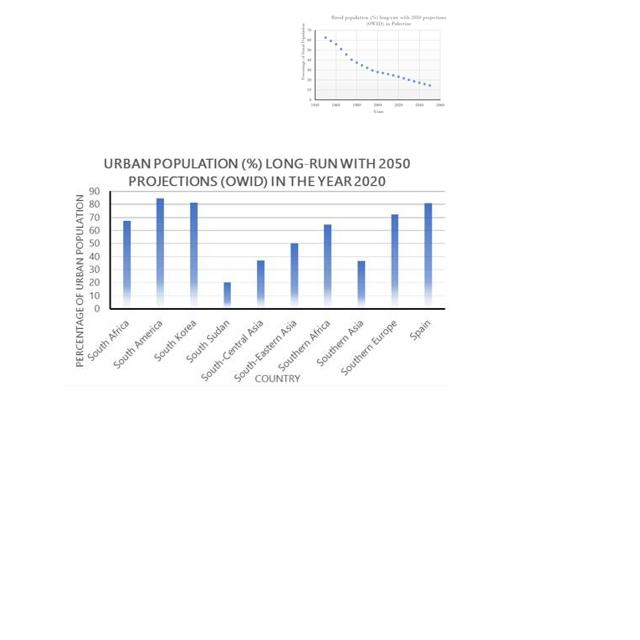Graph: (62, 149, 451, 386), (300, 10, 449, 116)
